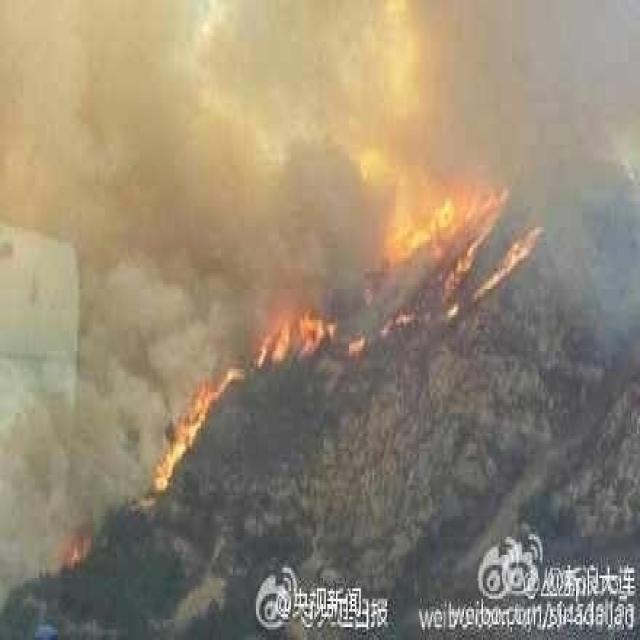Fire: (151, 188, 544, 493)
Smoke: (1, 2, 638, 604)
